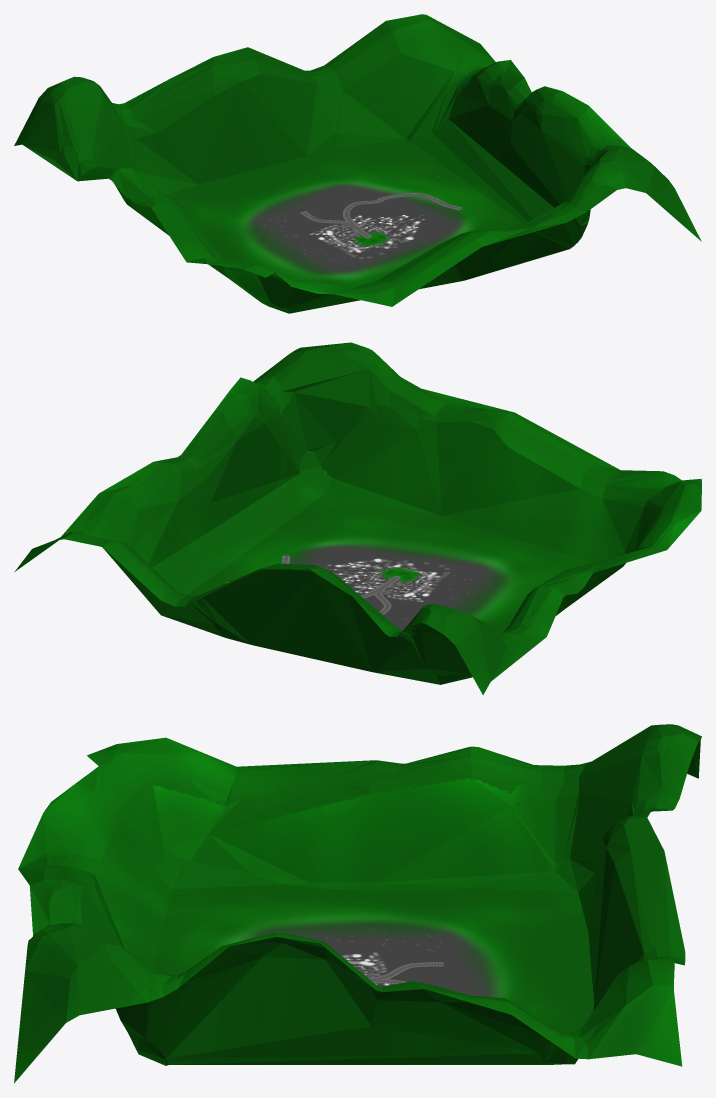
The model's file is city.obj.
3 views of the same model, one above another, from view 1: azimuth 30°, elevation 25°; view 2: azimuth 150°, elevation 25°; view 3: azimuth 270°, elevation 25° (orthographic). The views are drawn at different scales.
Parts seen in each view (by area): view 1: Terrain_Plane, Road.002_Plane.003; view 2: Terrain_Plane; view 3: Terrain_Plane.
Part boxes in pixels (x1,y1,x2,y2): Terrain_Plane: (14,14,701,313); Road.002_Plane.003: (300,193,462,237); Terrain_Plane: (14,342,701,694); Terrain_Plane: (14,724,701,1083).
Bounding box in the file's own units: 3645 × 913 × 3605.
